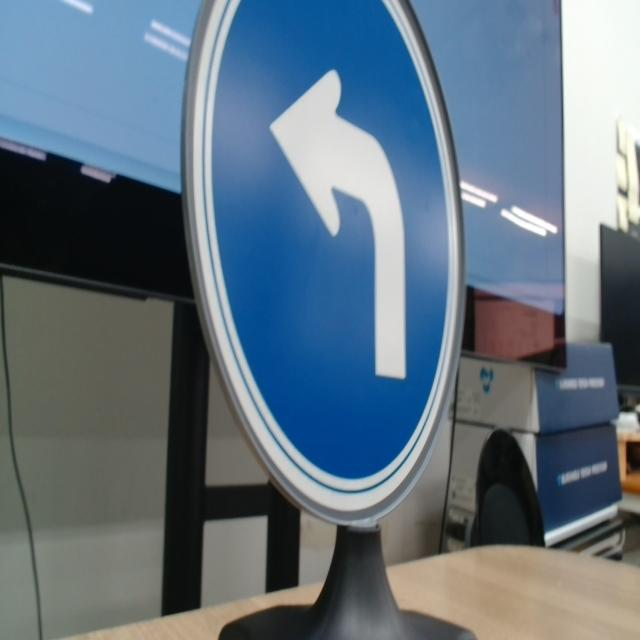left_direction: (173, 0, 464, 538)
